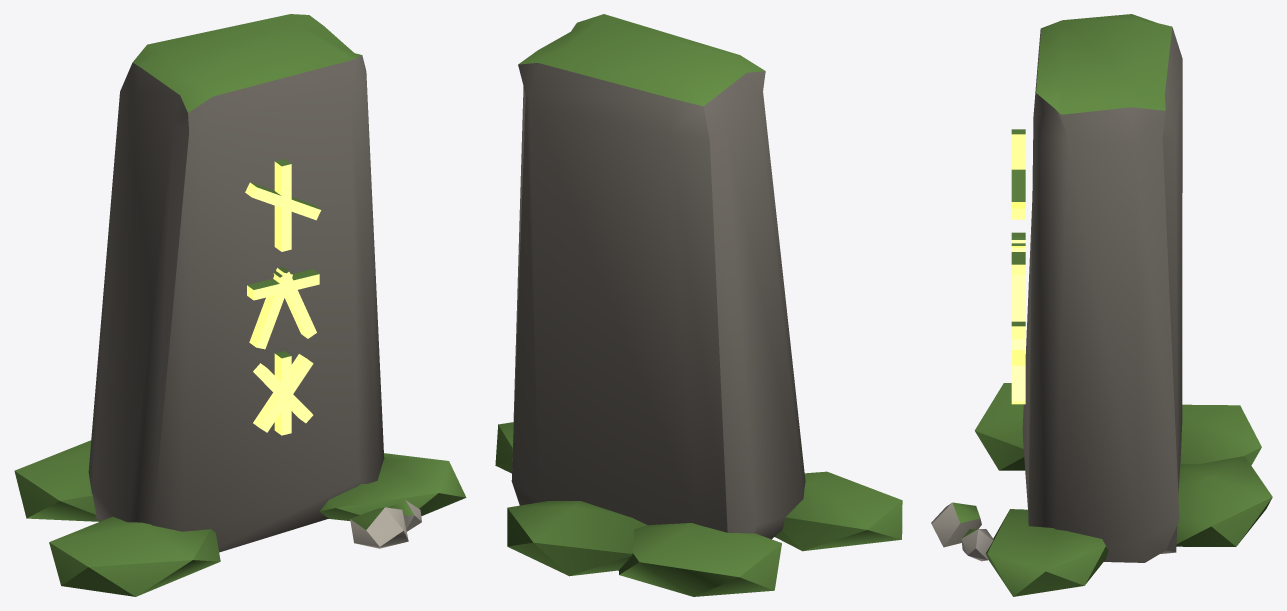
File: rune_stone.glb
3 views of the same model, side by side, from view 1: azimuth 30°, elevation 25°; view 2: azimuth 150°, elevation 25°; view 3: azimuth 270°, elevation 25° (orthographic).
Parts seen in each view (by area): view 1: rune_stone; view 2: rune_stone; view 3: rune_stone.
Boxes of the visible parts, x1=… form: rune_stone: x1=14, y1=14, x2=466, y2=596; rune_stone: x1=495, y1=14, x2=902, y2=596; rune_stone: x1=931, y1=14, x2=1272, y2=596.
Bounding box in the file's own units: 0.9932 × 1.14 × 0.7419.
